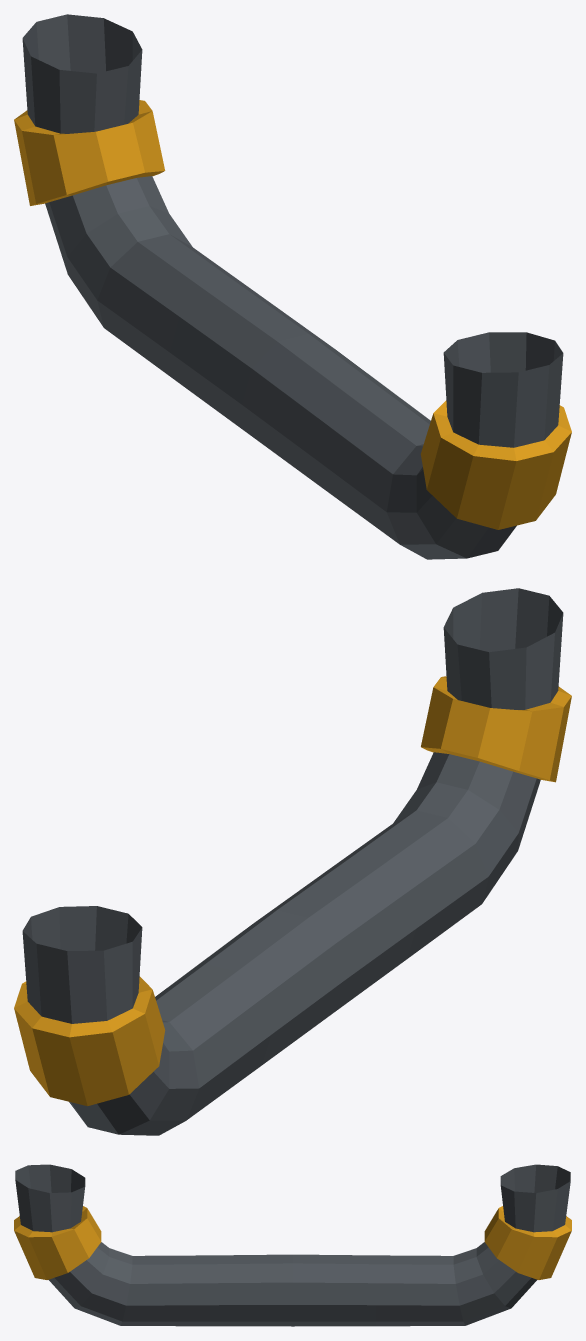
Rendered from Dropship_03_Piping_Small_Yellow.fbx.
The picture shows the model from 3 angles, top to bottom: view 1: azimuth 30°, elevation 25°; view 2: azimuth 150°, elevation 25°; view 3: azimuth 270°, elevation 25°; orthographic projection. The views are drawn at different scales.
Parts seen in each view (by area): view 1: Dropship_03_Piping_Small_Yellow; view 2: Dropship_03_Piping_Small_Yellow; view 3: Dropship_03_Piping_Small_Yellow.
Boxes of the visible parts, x1,y1,x2,y2 form: Dropship_03_Piping_Small_Yellow: (14, 14, 571, 559); Dropship_03_Piping_Small_Yellow: (14, 588, 571, 1135); Dropship_03_Piping_Small_Yellow: (14, 1164, 571, 1326).
Bounding box in the file's own units: 18.57 × 36.77 × 127.
Materials: 1 (1 with a texture image).
